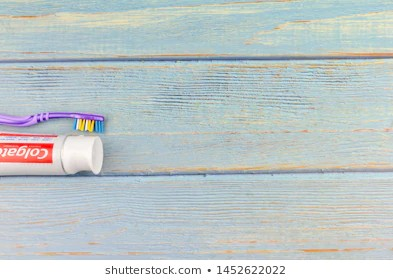colgate-total-150gm: (1, 132, 107, 182)
toothbrush: (1, 108, 111, 134)
